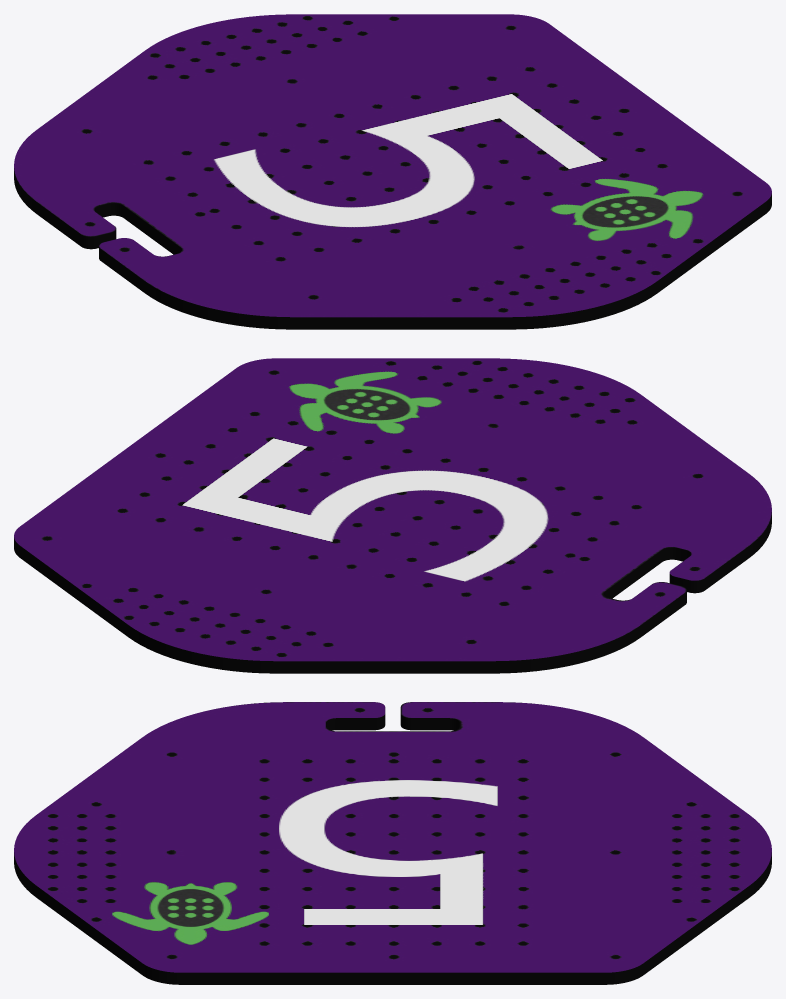
Rendered from plate_top_purple.dae.
3 views of the same model, one above another, from view 1: azimuth 30°, elevation 25°; view 2: azimuth 150°, elevation 25°; view 3: azimuth 270°, elevation 25° (orthographic). The views are drawn at different scales.
Parts seen in each view (by area): view 1: _f_stack; view 2: _f_stack; view 3: _f_stack.
Part boxes in pixels (bbox=[...]): _f_stack: bbox=[14, 14, 771, 329]; _f_stack: bbox=[14, 358, 771, 673]; _f_stack: bbox=[14, 702, 771, 984].
Size of the model in its own units: 0.2873 by 0.34 by 0.006.
Materials: 1 (1 with a texture image).
